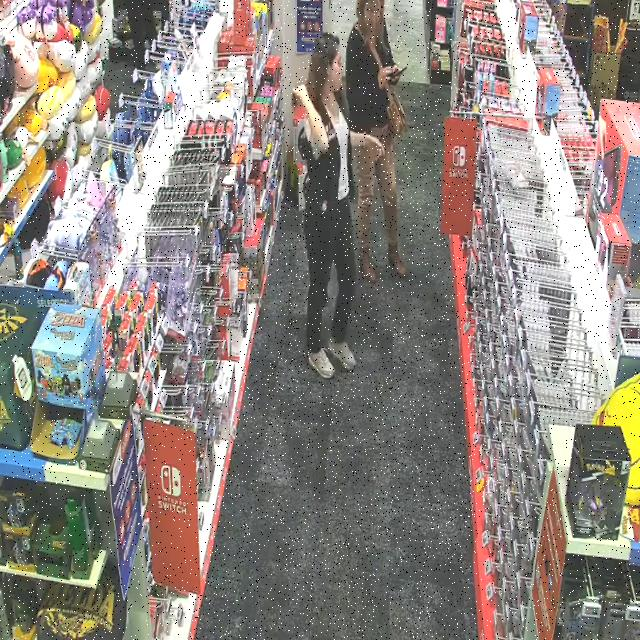bags: (385, 83, 406, 136)
hands: (365, 135, 384, 160), (293, 85, 309, 106), (379, 67, 392, 89), (390, 65, 400, 85)
person: (294, 34, 383, 378), (346, 0, 406, 283)
